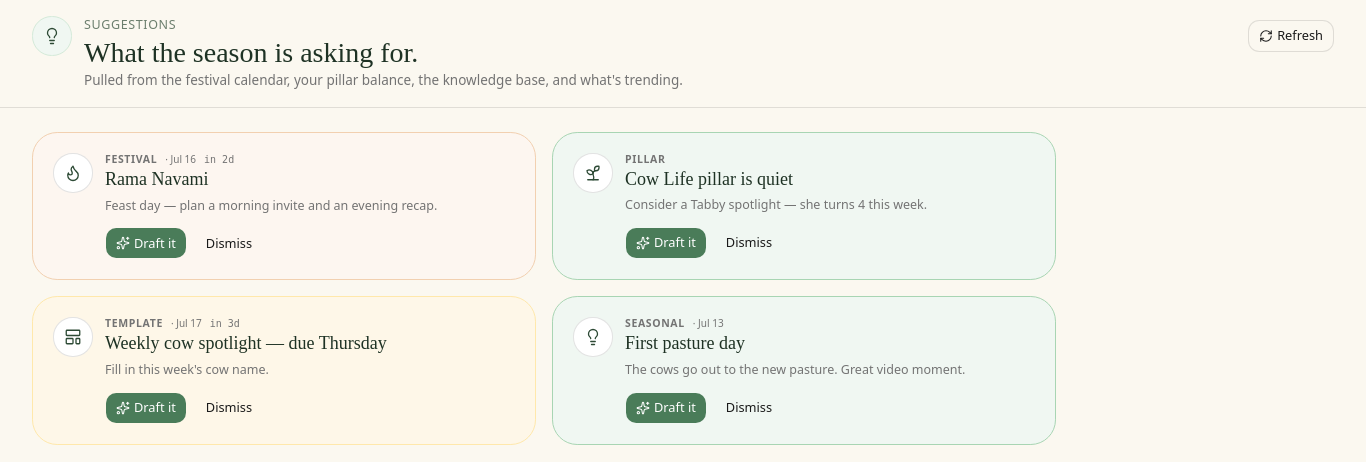
SuggestionsPage › refreshes from the header button and replaces the list
Expected: the heading "Rama Navami" is shown, [105,169,208,189]
Click the button "Refresh": (1291, 36) [1248,20,1334,52]
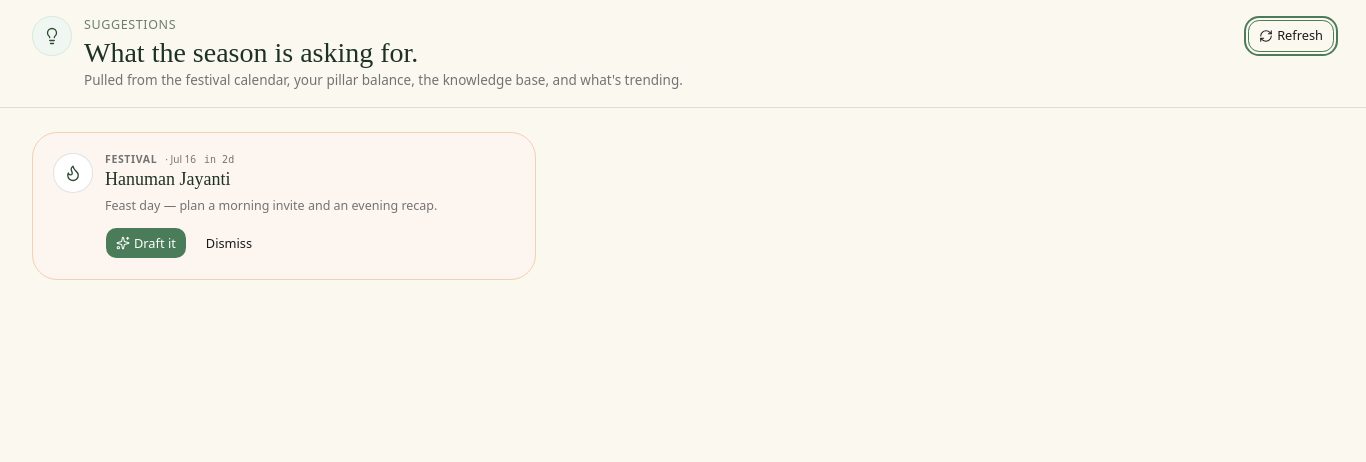
Expected: the heading "Hanuman Jayanti" is shown, [105,169,230,189]
Expected: the heading "Rama Navami" is gone
